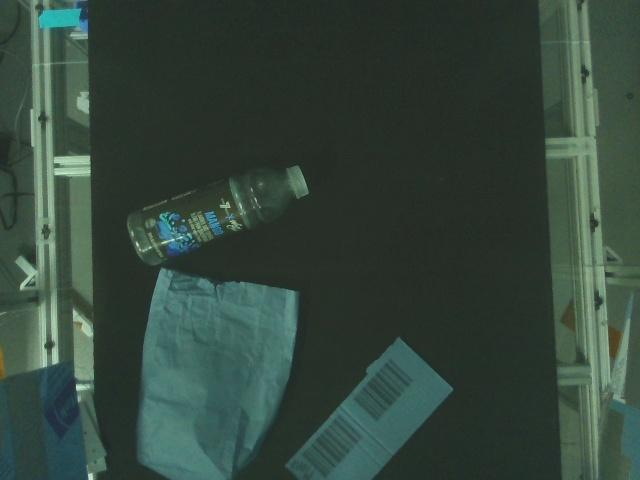cardboard: (284, 337, 455, 480)
paper: (137, 268, 300, 480)
plastic: (126, 165, 310, 265)
